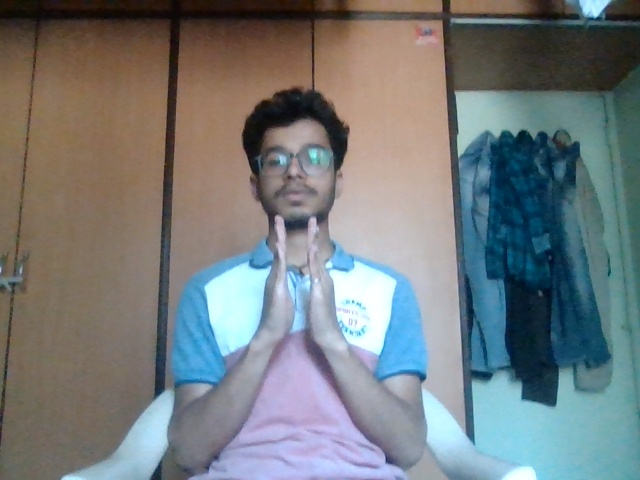morning: (259, 212, 365, 350)
